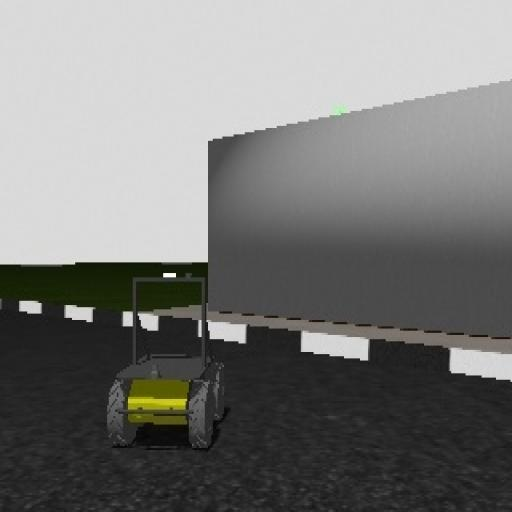huskya200: (94, 244, 236, 474)
